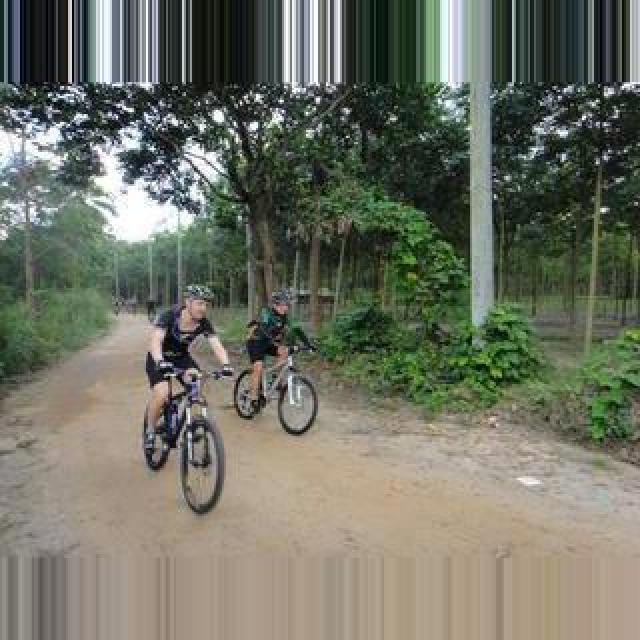MC-Bike: (144, 288, 232, 462), (244, 290, 314, 410)
Person: (142, 367, 226, 515), (232, 343, 318, 437)
